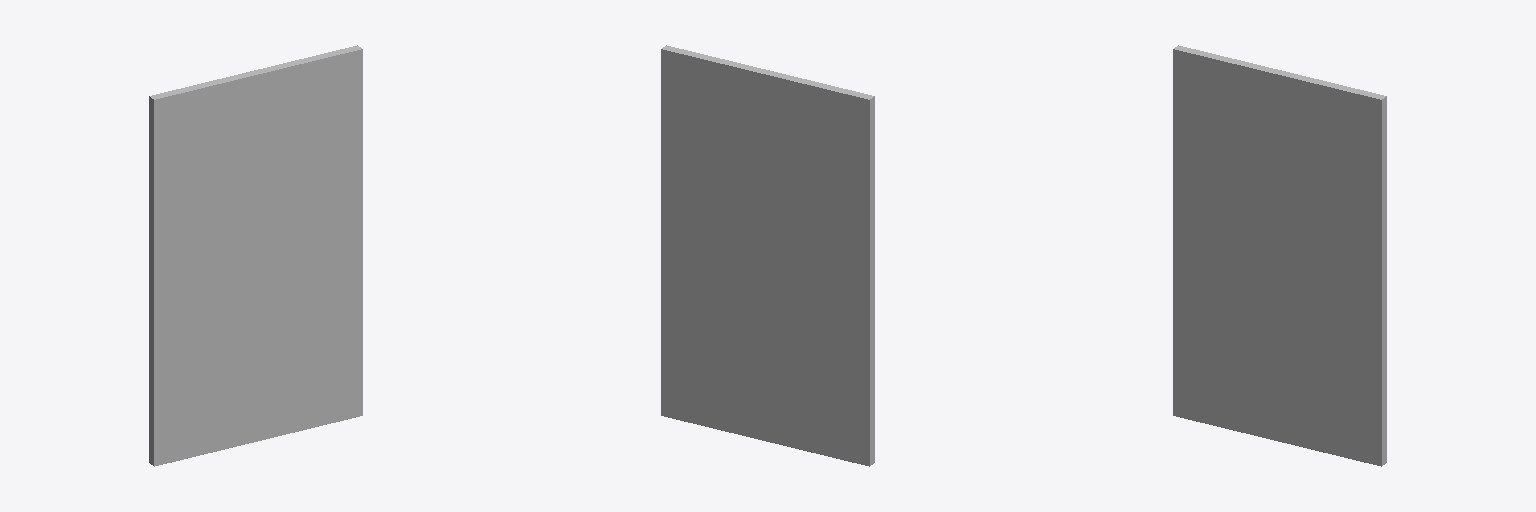
The model's file is original-31.obj.
3 renders of one model, left to right at view 1: azimuth 30°, elevation 25°; view 2: azimuth 150°, elevation 25°; view 3: azimuth 330°, elevation 25°, orthographic.
Visible parts, largest first — view 1: DR_FACE_10_1/DR_FACE_10/mesh22/mesh22-geometry#mesh22-geometry; view 2: DR_FACE_10_1/DR_FACE_10/mesh22/mesh22-geometry#mesh22-geometry; view 3: DR_FACE_10_1/DR_FACE_10/mesh22/mesh22-geometry#mesh22-geometry.
Part boxes in pixels (bbox=[...]): DR_FACE_10_1/DR_FACE_10/mesh22/mesh22-geometry#mesh22-geometry: bbox=[149, 45, 362, 466]; DR_FACE_10_1/DR_FACE_10/mesh22/mesh22-geometry#mesh22-geometry: bbox=[661, 45, 874, 466]; DR_FACE_10_1/DR_FACE_10/mesh22/mesh22-geometry#mesh22-geometry: bbox=[1173, 45, 1386, 466].
Size of the model in its own units: 0.668 by 1.12 by 0.0284.